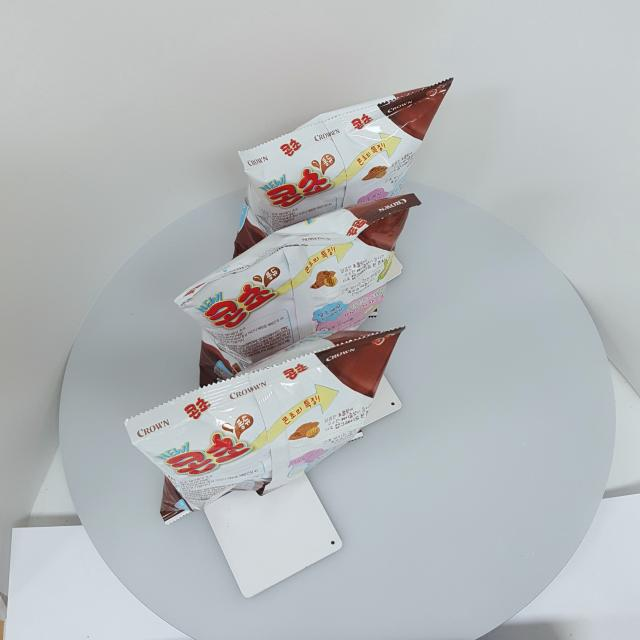-66G: (125, 326, 406, 527), (175, 194, 423, 389), (233, 78, 454, 261)
